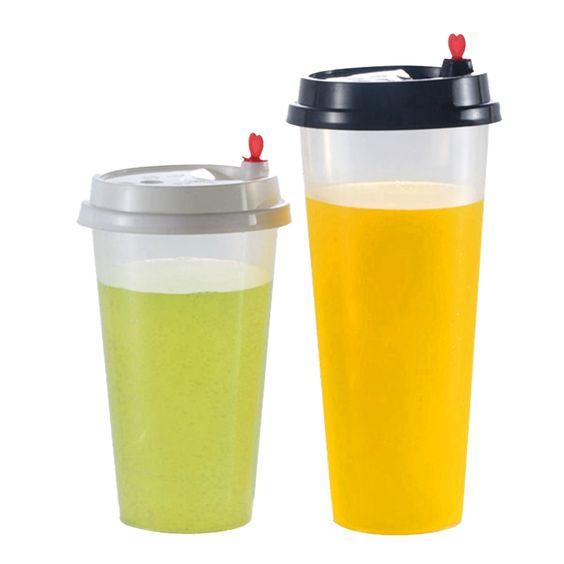PP: (287, 0, 564, 564), (55, 105, 296, 564)
